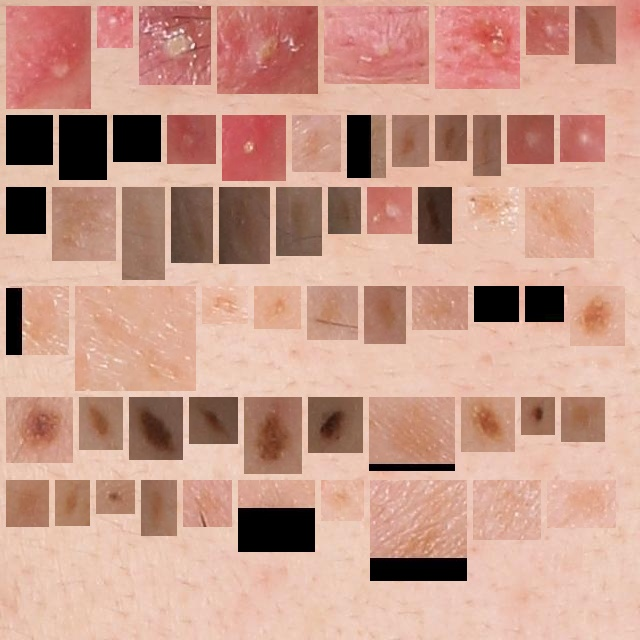melasma: (83, 294, 188, 383), (378, 488, 459, 573), (377, 405, 447, 463), (246, 488, 307, 544), (533, 195, 586, 250), (60, 195, 108, 253), (14, 294, 61, 347), (481, 488, 533, 532), (227, 195, 262, 256), (130, 195, 157, 272), (555, 488, 608, 520), (284, 195, 314, 248), (67, 123, 99, 172), (179, 195, 205, 255), (300, 123, 333, 164), (315, 294, 350, 332), (466, 195, 511, 223), (420, 294, 460, 322), (372, 294, 398, 336), (355, 123, 378, 170), (14, 123, 45, 157), (583, 14, 608, 56), (191, 488, 224, 519), (121, 123, 153, 154), (262, 294, 293, 321), (14, 488, 41, 519), (569, 405, 597, 434), (149, 488, 169, 528), (400, 123, 421, 159), (14, 195, 38, 226), (329, 488, 356, 513), (210, 294, 240, 316), (482, 294, 511, 314), (63, 488, 82, 518), (481, 123, 493, 168), (336, 195, 353, 226), (443, 123, 459, 153), (533, 294, 556, 314)
nevus: (252, 405, 294, 466), (14, 405, 65, 455), (137, 405, 175, 452), (578, 294, 617, 338), (316, 405, 355, 445), (469, 405, 507, 444), (87, 405, 115, 442), (197, 405, 230, 436), (426, 195, 444, 236), (104, 488, 127, 506), (529, 405, 547, 427)
pustule: (225, 14, 310, 86), (14, 14, 83, 101), (332, 14, 421, 76), (443, 14, 512, 81), (147, 14, 203, 77), (230, 123, 278, 173), (175, 123, 208, 156), (515, 123, 546, 156), (568, 123, 597, 154), (375, 195, 404, 226), (534, 14, 561, 47), (105, 14, 125, 40)
